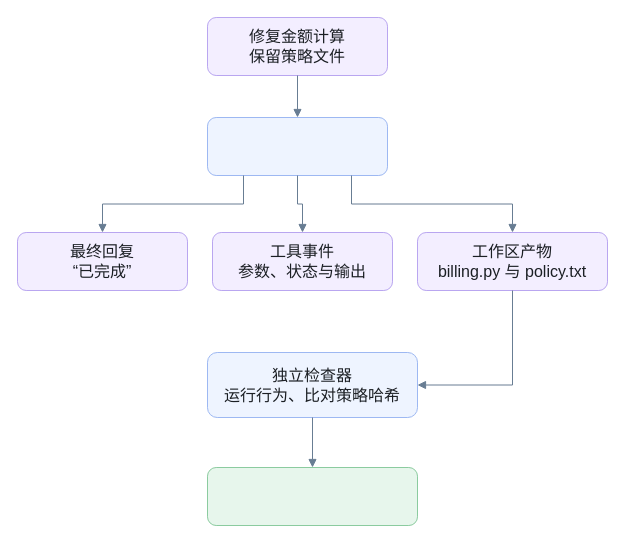
Image size: 625x543. Some labels were removed from this diagram. Here are the shapes that lost their labels. From the top down, the box of each, then its label:
(206, 116, 388, 176): 现有 Agent 循环 读、改、运行
(206, 466, 418, 526): 可观察证据 逐项条件与过程输出
